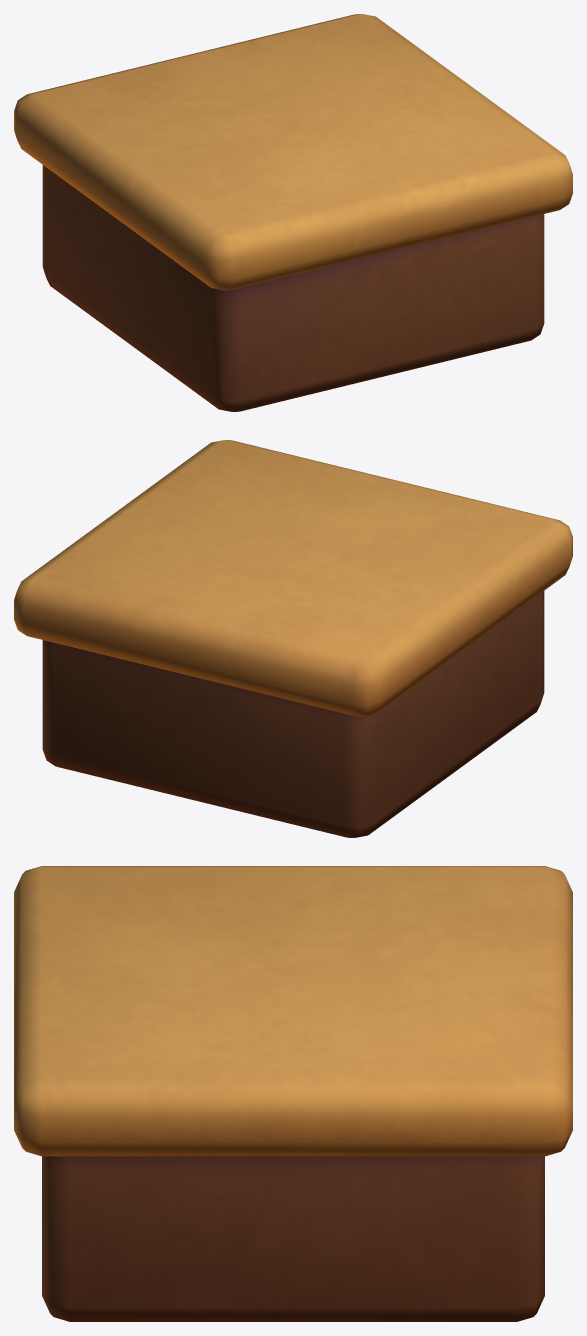
File: ClearCounter.fbx
The picture shows the model from 3 angles, top to bottom: view 1: azimuth 30°, elevation 25°; view 2: azimuth 150°, elevation 25°; view 3: azimuth 270°, elevation 25°; orthographic projection. The views are drawn at different scales.
Visible parts, largest first — view 1: ClearCounter.Base; view 2: ClearCounter.Base; view 3: ClearCounter.Base.
Part boxes in pixels (x1=…): ClearCounter.Base: x1=14, y1=14, x2=572, y2=411; ClearCounter.Base: x1=14, y1=440, x2=572, y2=837; ClearCounter.Base: x1=14, y1=866, x2=572, y2=1321.
Bounding box in the file's own units: 100 × 50 × 100.
